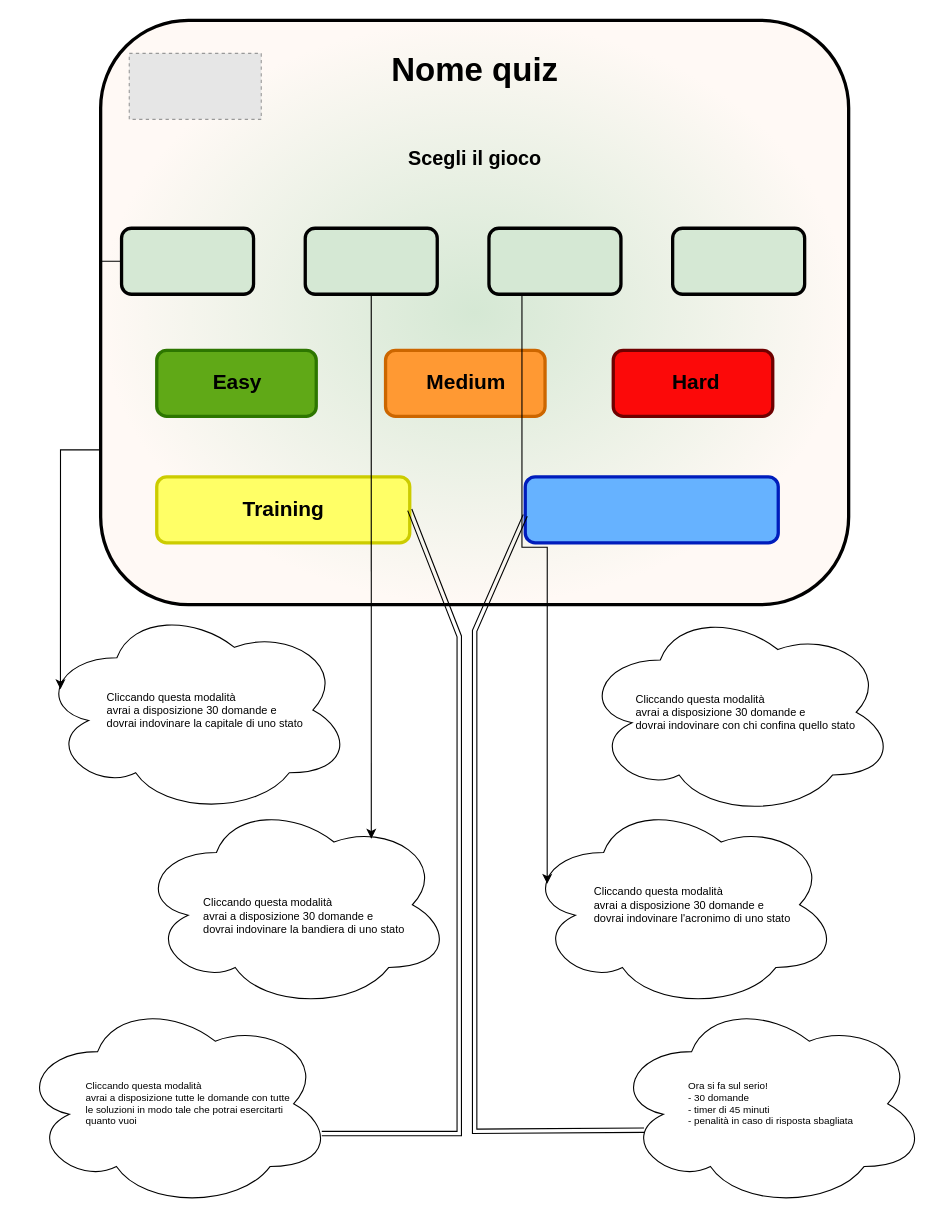
This 946x1228 diagram has some shape labels left out. Grey dashed boxes stand in for pictures. Here are the shapes that lost their labels. From the top down, the box of each, then its label:
(119, 226, 255, 295): Capital
(303, 226, 438, 295): Flags
(487, 226, 622, 295): Acronyms
(670, 226, 806, 295): Borders on
(523, 475, 779, 544): Quiz
